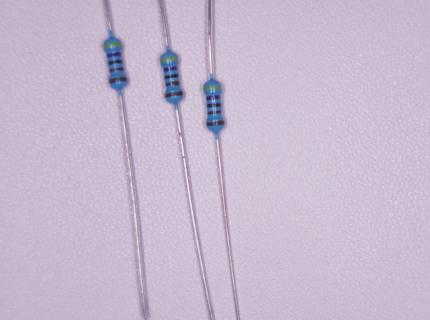Black band: (165, 73, 178, 79), (108, 60, 122, 65), (207, 103, 221, 108)
Brown band: (109, 77, 127, 84), (165, 91, 182, 98), (207, 120, 224, 126), (109, 67, 124, 73), (166, 81, 179, 86), (208, 110, 221, 115)
Violet band: (107, 52, 121, 58), (164, 66, 177, 72), (206, 96, 220, 100)
Yellow band: (104, 43, 121, 48), (160, 57, 177, 62), (204, 86, 221, 90)
